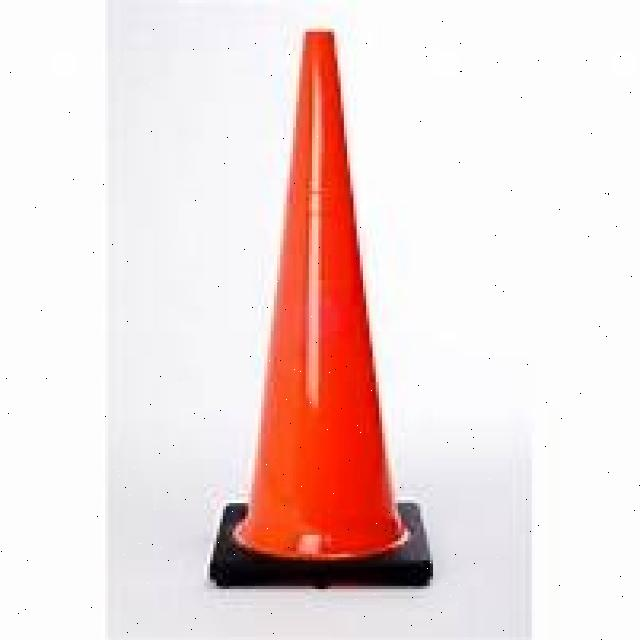traffic cone: (203, 23, 449, 611)
